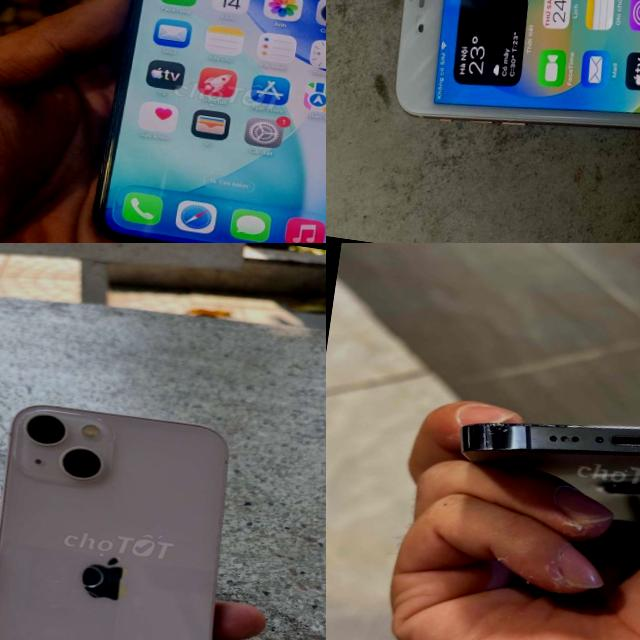gen_11: (87, 0, 326, 243)
gen_12_13: (0, 395, 253, 640), (446, 378, 640, 542)
gen_7_8: (338, 0, 640, 193)
scratch: (532, 399, 640, 459), (472, 412, 534, 464)
